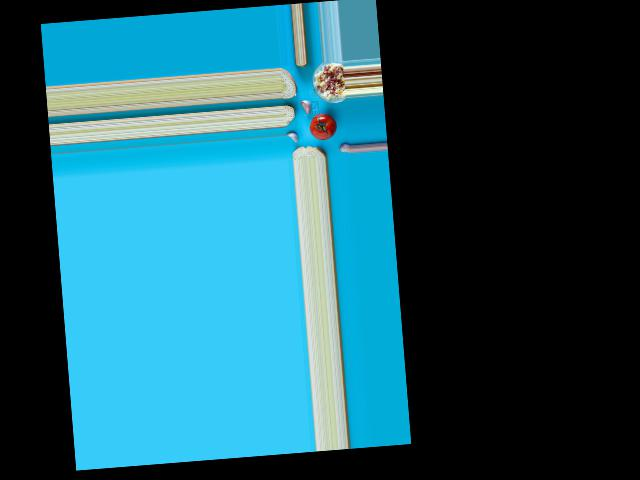tomato: (308, 113, 337, 141)
